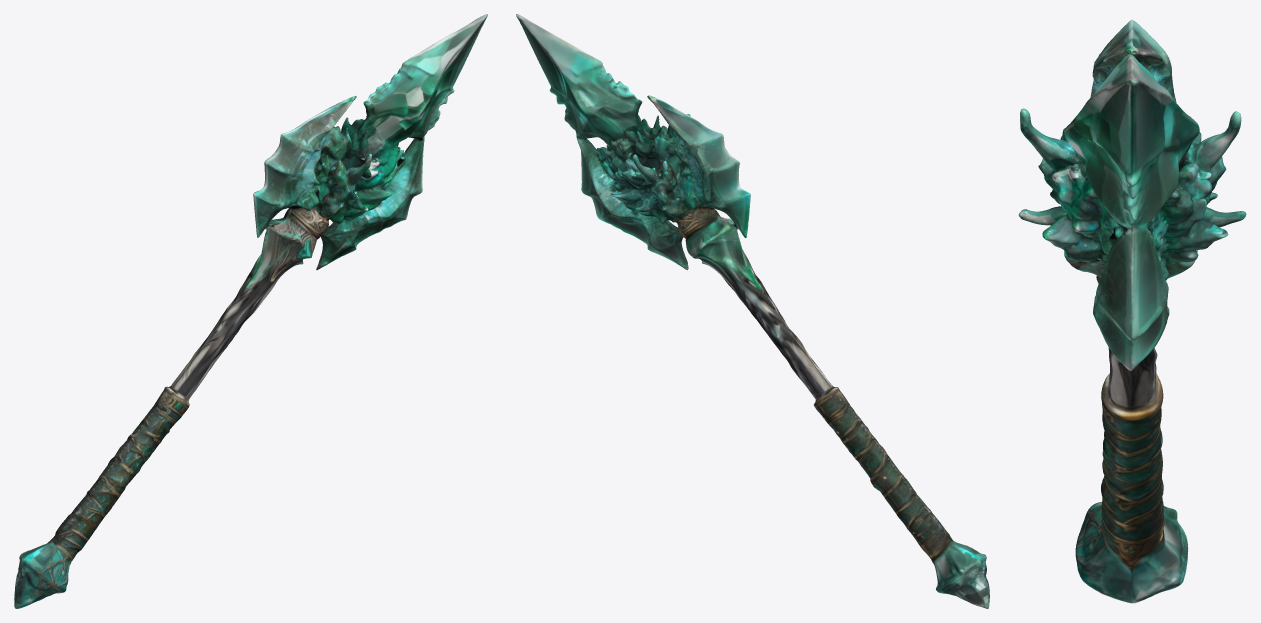
File: Meshy_AI_Verdant_Arcane_Staff_0325101751_texture.fbx
The picture shows the model from 3 angles, left to right: view 1: azimuth 30°, elevation 25°; view 2: azimuth 150°, elevation 25°; view 3: azimuth 270°, elevation 25°; orthographic projection. The views are drawn at different scales.
Parts seen in each view (by area): view 1: Mesh_0; view 2: Mesh_0; view 3: Mesh_0.
Boxes of the visible parts, box(x1,y1,x2,y2) form: Mesh_0: box(14, 14, 487, 608); Mesh_0: box(516, 14, 989, 608); Mesh_0: box(1018, 19, 1246, 603).
Bounding box in the file's own units: 200 × 194 × 41.85.
Materials: 1 (1 with a texture image).
